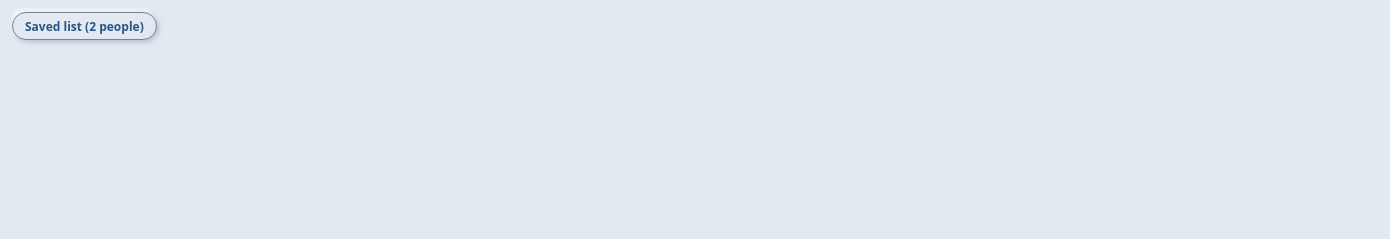
adding an address › saves the list with it at the end, trimmed, empties the box and says what was done
Click the button "Saved list (2 people)": (84, 26) [12,12,157,40]
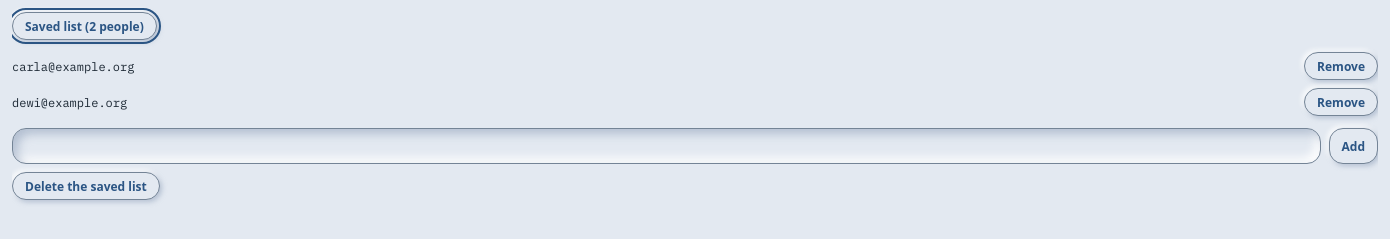
In the field named "Add an address to the saved list": (666, 146) [12,128,1320,164], type "  eko@example.org "
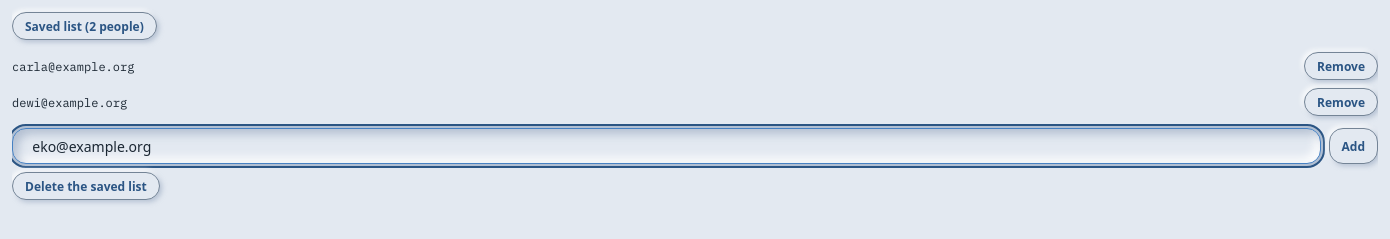
Click the button "Add": (1353, 146) [1328,128,1378,164]
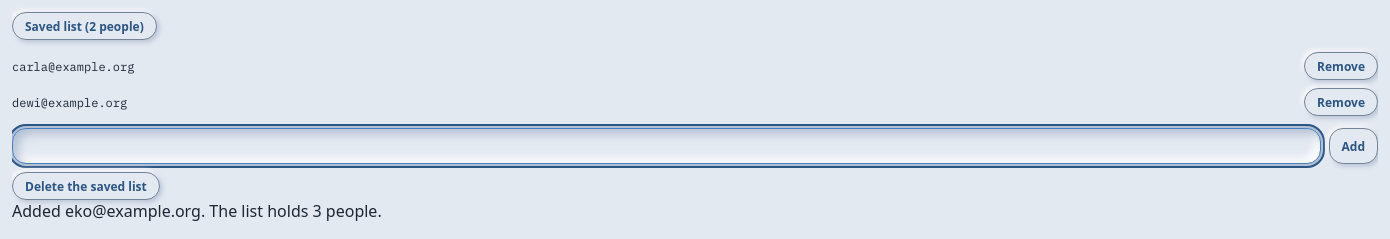
Expected: the message reads "Added eko@example.org. The list holds 3 people.", [12,200,382,222]
